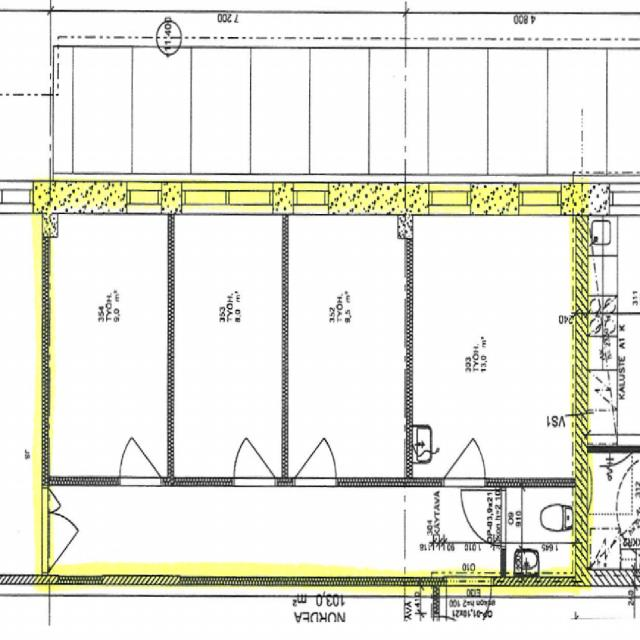door: (42, 514, 92, 572), (294, 419, 336, 487), (444, 421, 485, 487), (119, 421, 160, 487), (235, 421, 275, 487), (461, 491, 506, 547), (42, 489, 66, 513)
